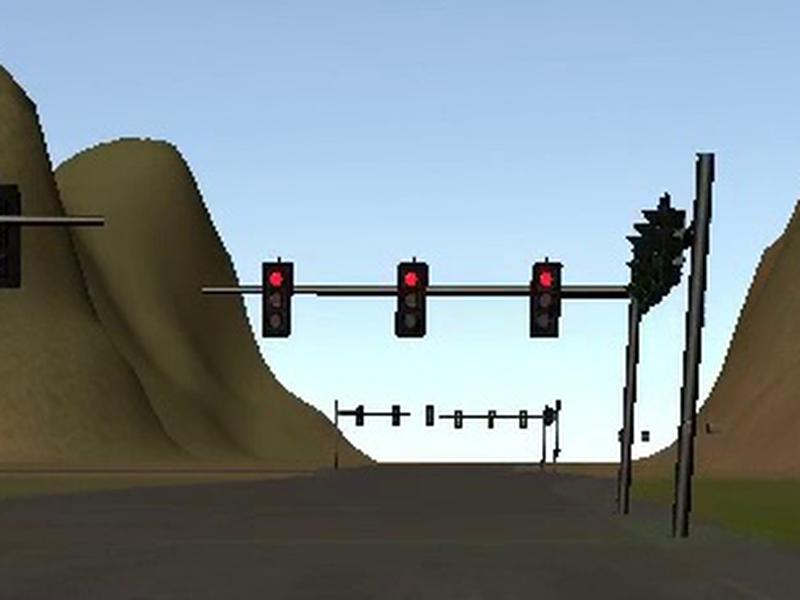Red: (394, 262, 429, 338), (529, 261, 562, 338), (262, 261, 293, 338)
